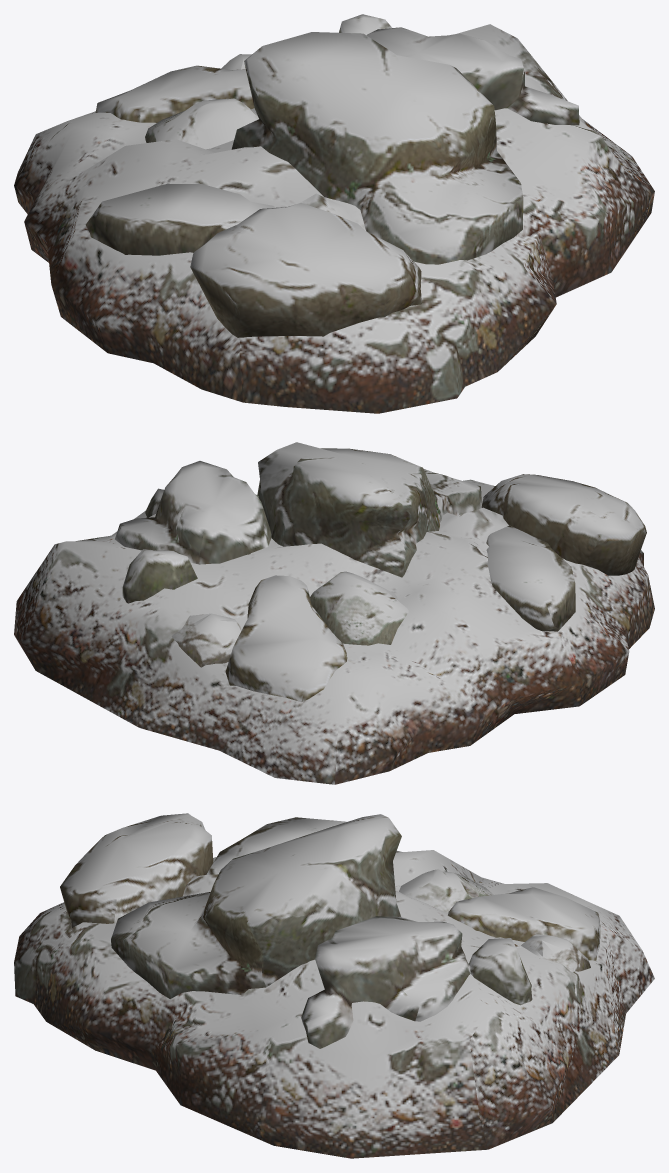
3 views of the same model, one above another, from view 1: azimuth 30°, elevation 25°; view 2: azimuth 150°, elevation 25°; view 3: azimuth 270°, elevation 25° (orthographic). The views are drawn at different scales.
Parts seen in each view (by area): view 1: 1_wj_01_03; view 2: 1_wj_01_03; view 3: 1_wj_01_03.
Part boxes in pixels (x1,y1,x2,y2): 1_wj_01_03: (14, 14, 654, 413); 1_wj_01_03: (14, 442, 654, 784); 1_wj_01_03: (14, 813, 654, 1158).
Bounding box in the file's own units: 2.83 × 0.9431 × 2.93.
Materials: 1 (1 with a texture image).
